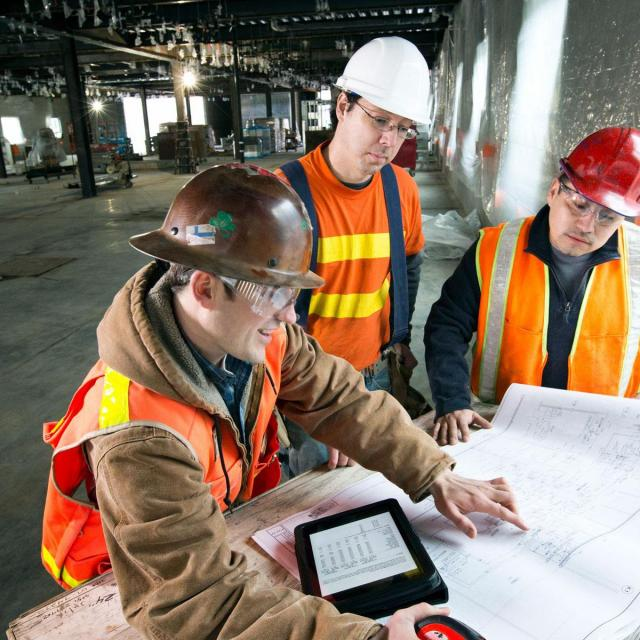Reflective-Jacket: (41, 321, 298, 568), (281, 150, 419, 377), (471, 218, 634, 410)
Safety-Helmet: (132, 159, 324, 292), (330, 32, 436, 124), (557, 122, 640, 218)
